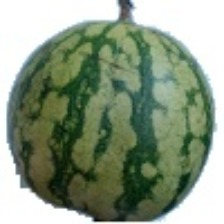watermelon: (40, 39, 219, 185)
